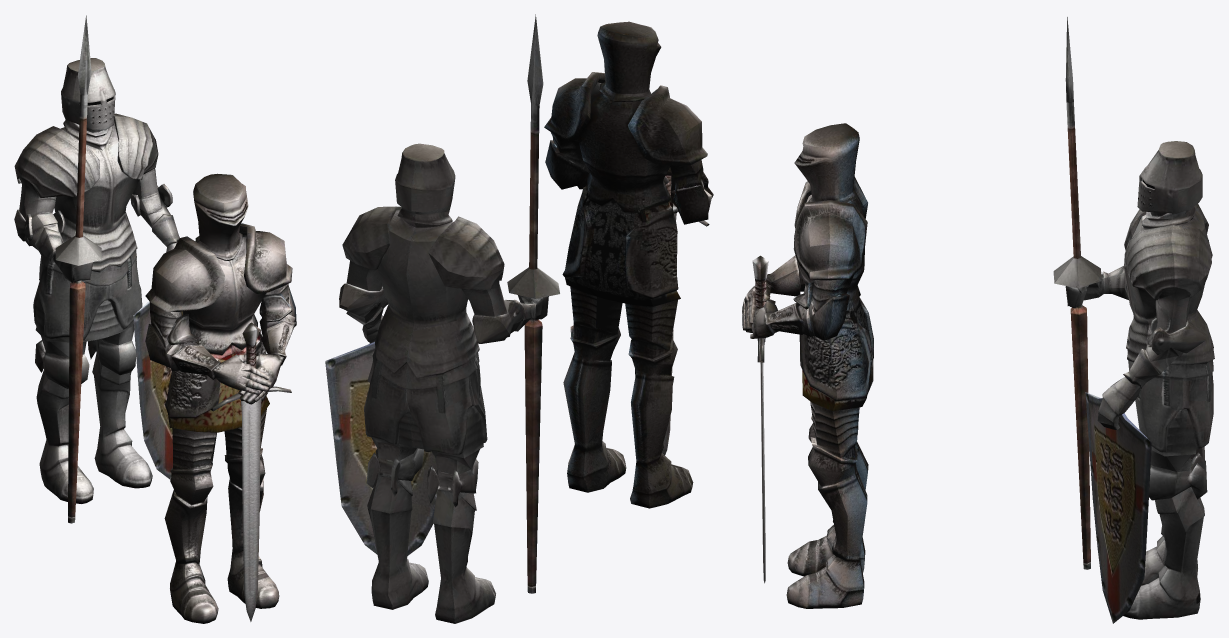
File: knight.obj
The picture shows the model from 3 angles, left to right: view 1: azimuth 30°, elevation 25°; view 2: azimuth 150°, elevation 25°; view 3: azimuth 270°, elevation 25°; orthographic projection. The views are drawn at different scales.
Visible parts, largest first — view 1: Box04, Box03; view 2: Box04, Box03; view 3: Box04, Box03.
Boxes of the visible parts, x1,y1,x2,y2 form: Box04: (14,15,182,523); Box03: (145,173,296,623); Box04: (325,14,559,623); Box03: (544,21,713,508); Box04: (1053,17,1214,623); Box03: (742,123,873,608).
Bounding box in the file's own units: 23.33 × 57.56 × 44.24.
Materials: 2 (2 with a texture image).
